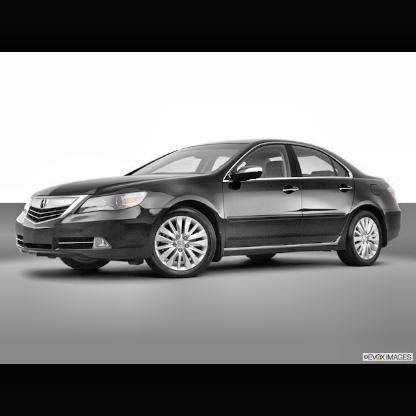Acura RL Sedan 2012: (16, 140, 403, 279)
